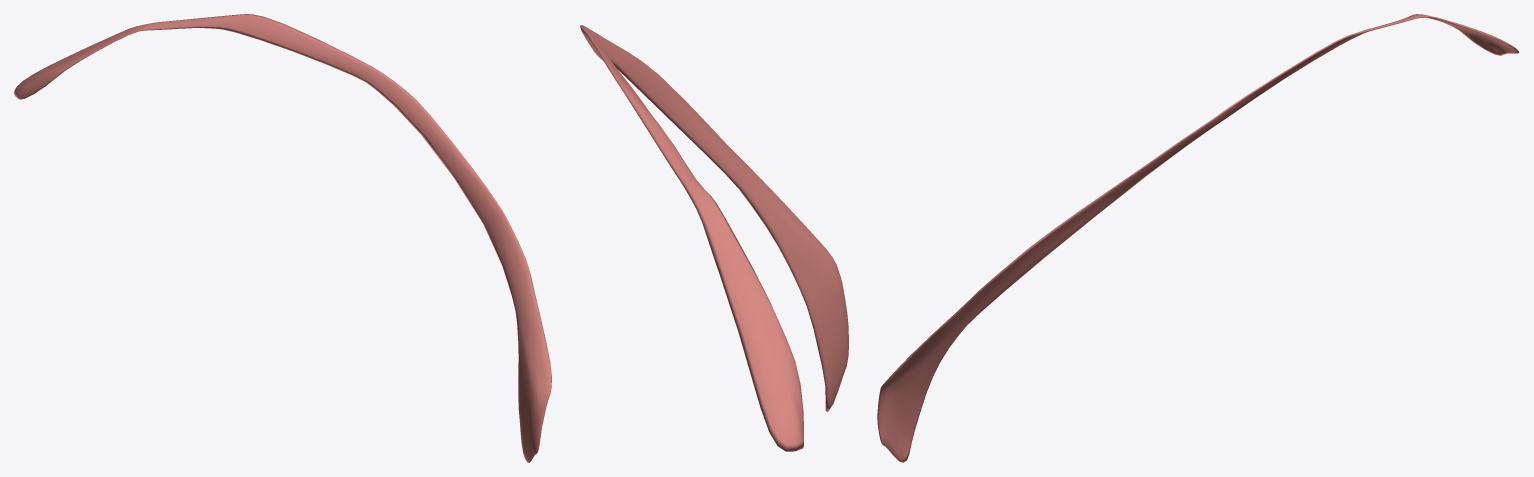
3 renders of one model, left to right at view 1: azimuth 30°, elevation 25°; view 2: azimuth 150°, elevation 25°; view 3: azimuth 270°, elevation 25°, orthographic. The views are drawn at different scales.
Parts seen in each view (by area): view 1: ZA_35fdb0970e122278; view 2: ZA_35fdb0970e122278; view 3: ZA_35fdb0970e122278.
Boxes of the visible parts, bbox=[...] form: ZA_35fdb0970e122278: bbox=[14, 14, 551, 462]; ZA_35fdb0970e122278: bbox=[580, 25, 848, 451]; ZA_35fdb0970e122278: bbox=[877, 14, 1519, 462].
Size of the model in its own units: 0.0661 by 0.0736 by 0.1133.
